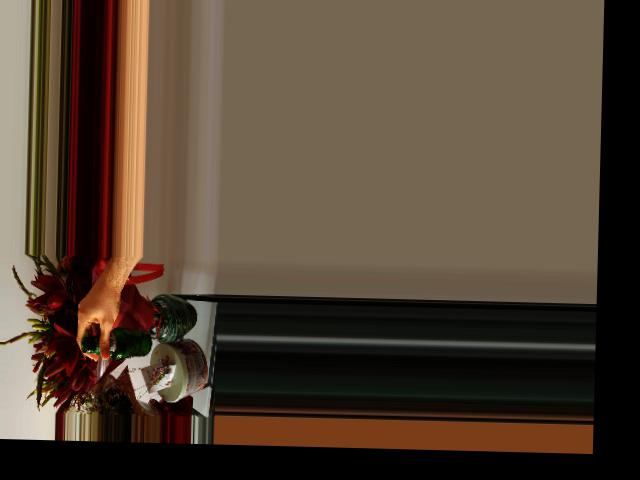beer: (81, 327, 153, 360)
